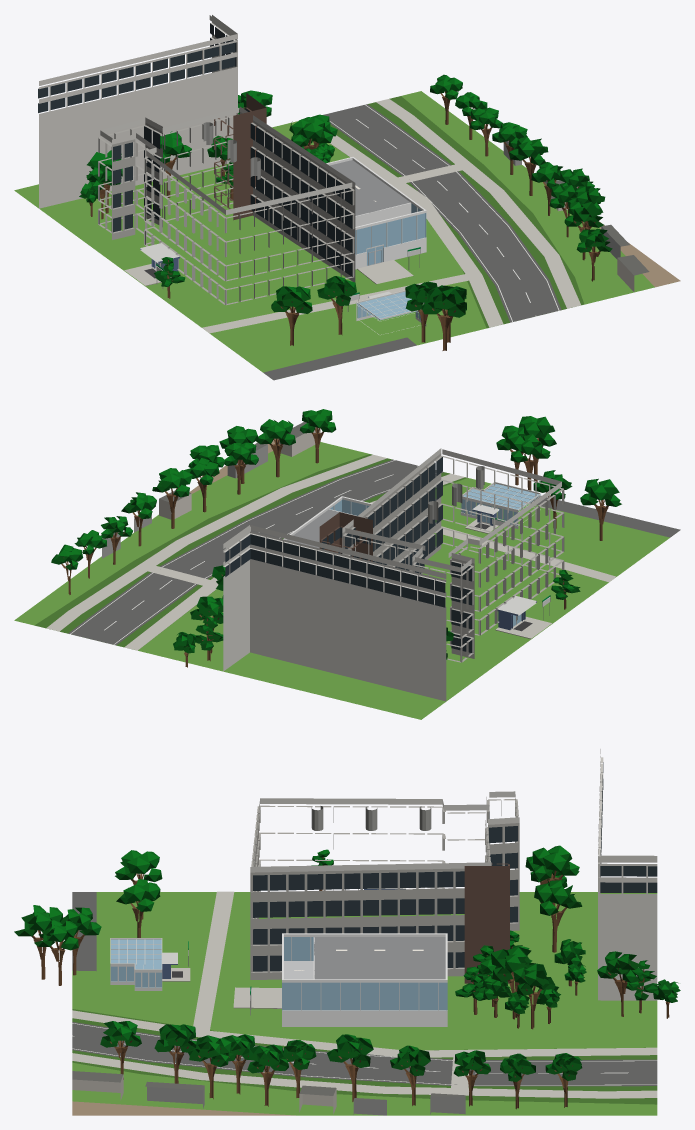
The model's file is lab2.fbx.
3 renders of one model, top to bottom at view 1: azimuth 30°, elevation 25°; view 2: azimuth 150°, elevation 25°; view 3: azimuth 270°, elevation 25°, orthographic. The views are drawn at different scales.
Parts seen in each view (by area): view 1: ext_lab2, ext_lab2_trees, wall_lab2; view 2: ext_lab2, ext_lab2_trees, wall_lab2; view 3: ext_lab2, ext_lab2_trees, wall_lab2.
Boxes of the visible parts, bbox=[...] form: ext_lab2: bbox=[14, 15, 680, 380]; ext_lab2_trees: bbox=[79, 74, 612, 350]; wall_lab2: bbox=[326, 157, 426, 269]; ext_lab2: bbox=[14, 421, 680, 719]; ext_lab2_trees: bbox=[51, 409, 621, 667]; wall_lab2: bbox=[283, 496, 372, 548]; ext_lab2: bbox=[72, 749, 657, 1115]; ext_lab2_trees: bbox=[14, 845, 680, 1109]; wall_lab2: bbox=[282, 933, 447, 1026].
Size of the model in its own units: 77.48 by 22.97 by 95.5.
